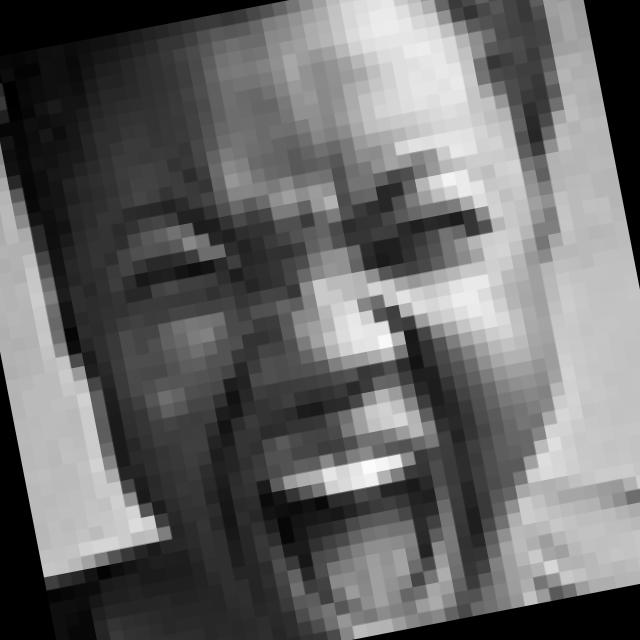angry: (100, 133, 575, 640)
